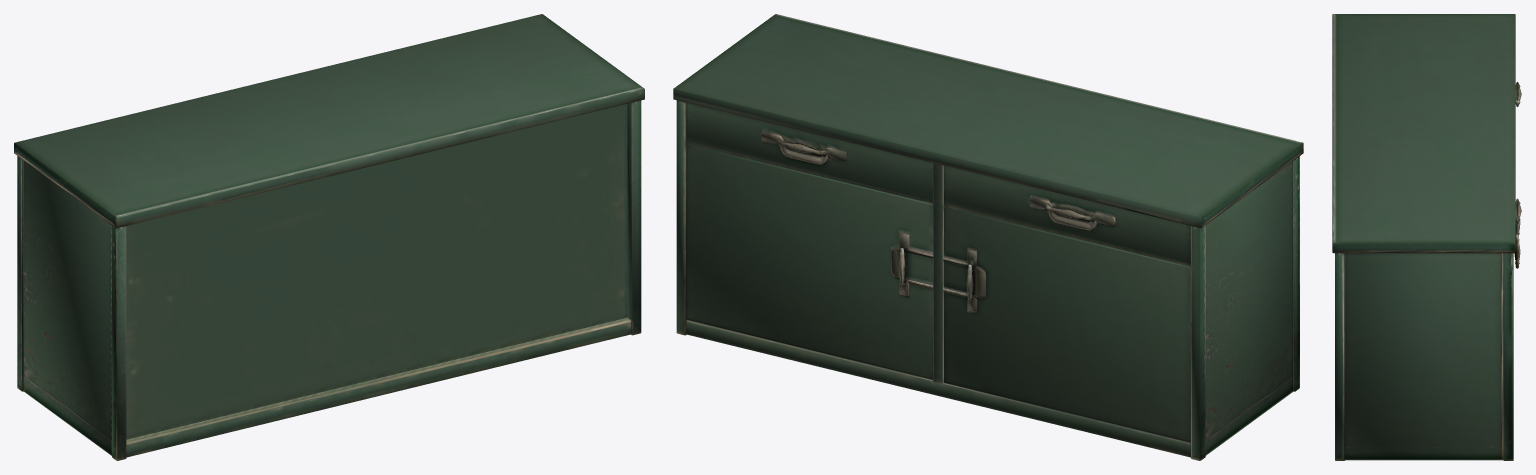
The model's file is metal_storage_chest_3d_model.fbx.
The picture shows the model from 3 angles, left to right: view 1: azimuth 30°, elevation 25°; view 2: azimuth 150°, elevation 25°; view 3: azimuth 270°, elevation 25°; orthographic projection. The views are drawn at different scales.
Parts seen in each view (by area): view 1: tripo_node_fd35fd37-6fa2-42bb-9b83-eab0af70bae2; view 2: tripo_node_fd35fd37-6fa2-42bb-9b83-eab0af70bae2; view 3: tripo_node_fd35fd37-6fa2-42bb-9b83-eab0af70bae2.
Part boxes in pixels (box(x1,y1,x2,y2)): tripo_node_fd35fd37-6fa2-42bb-9b83-eab0af70bae2: box(14, 14, 644, 460); tripo_node_fd35fd37-6fa2-42bb-9b83-eab0af70bae2: box(673, 14, 1303, 460); tripo_node_fd35fd37-6fa2-42bb-9b83-eab0af70bae2: box(1332, 14, 1521, 460).
Size of the model in its own units: 0.9995 by 0.4429 by 0.3481.
1 material, 1 textured.
